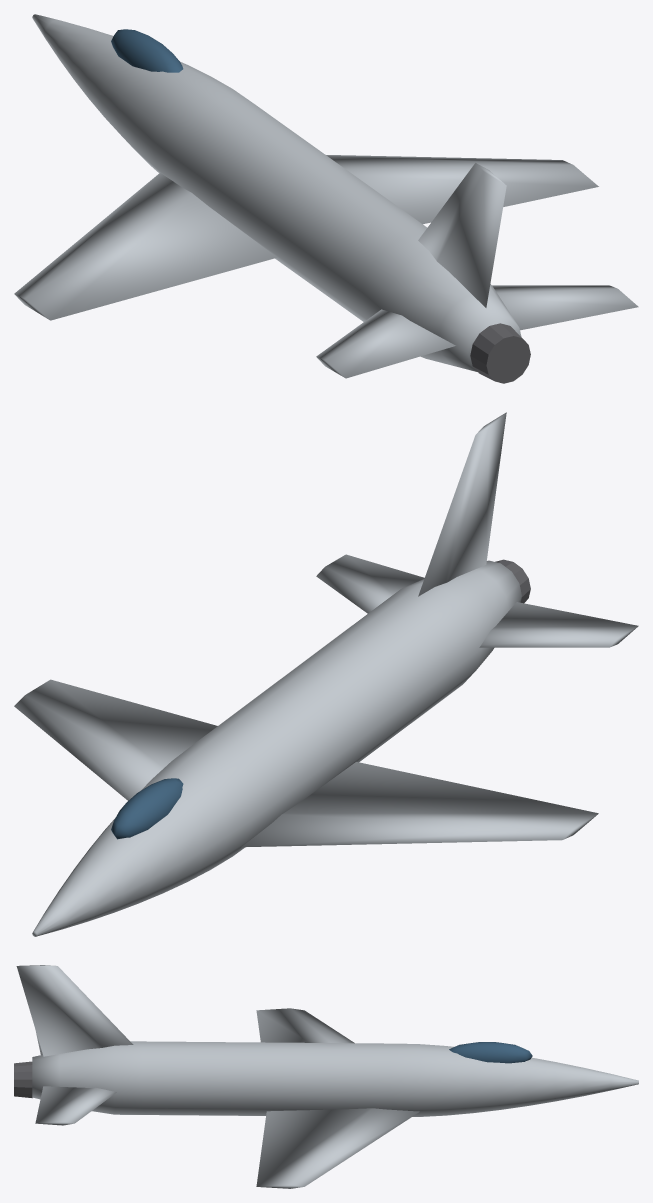
3 renders of one model, top to bottom at view 1: azimuth 30°, elevation 25°; view 2: azimuth 150°, elevation 25°; view 3: azimuth 270°, elevation 25°, orthographic. The views are drawn at different scales.
Parts seen in each view (by area): view 1: Body, Detail, Canopy; view 2: Body, Canopy; view 3: Body, Canopy, Detail.
Boxes of the visible parts, bbox=[...] form: Body: bbox=[14, 14, 638, 378]; Detail: bbox=[470, 323, 530, 383]; Canopy: bbox=[111, 29, 183, 72]; Body: bbox=[14, 412, 638, 936]; Canopy: bbox=[111, 778, 183, 839]; Body: bbox=[16, 965, 638, 1188]; Canopy: bbox=[449, 1042, 532, 1063]; Detail: bbox=[14, 1061, 32, 1098].
Bounding box in the file's own units: 840 × 328 × 1257.
